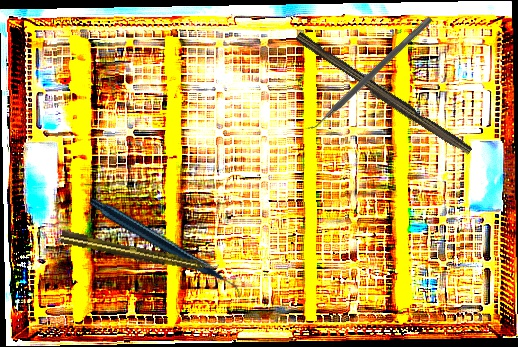Handpiece: (88, 160, 242, 338), (59, 229, 220, 277)
Scalpel Handle: (291, 31, 475, 159)
Spatula Surgical: (302, 10, 434, 138)
